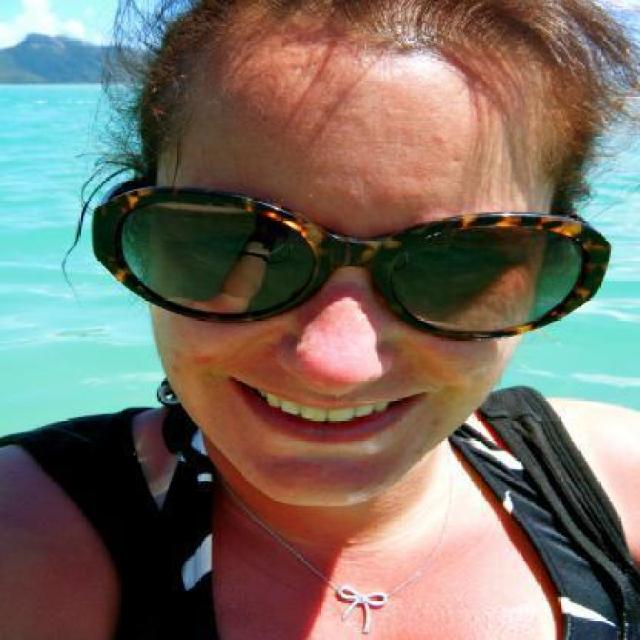face_nomask: (158, 186, 458, 479)
glasses: (73, 172, 622, 348)
head_nohelmet: (118, 1, 612, 110)
